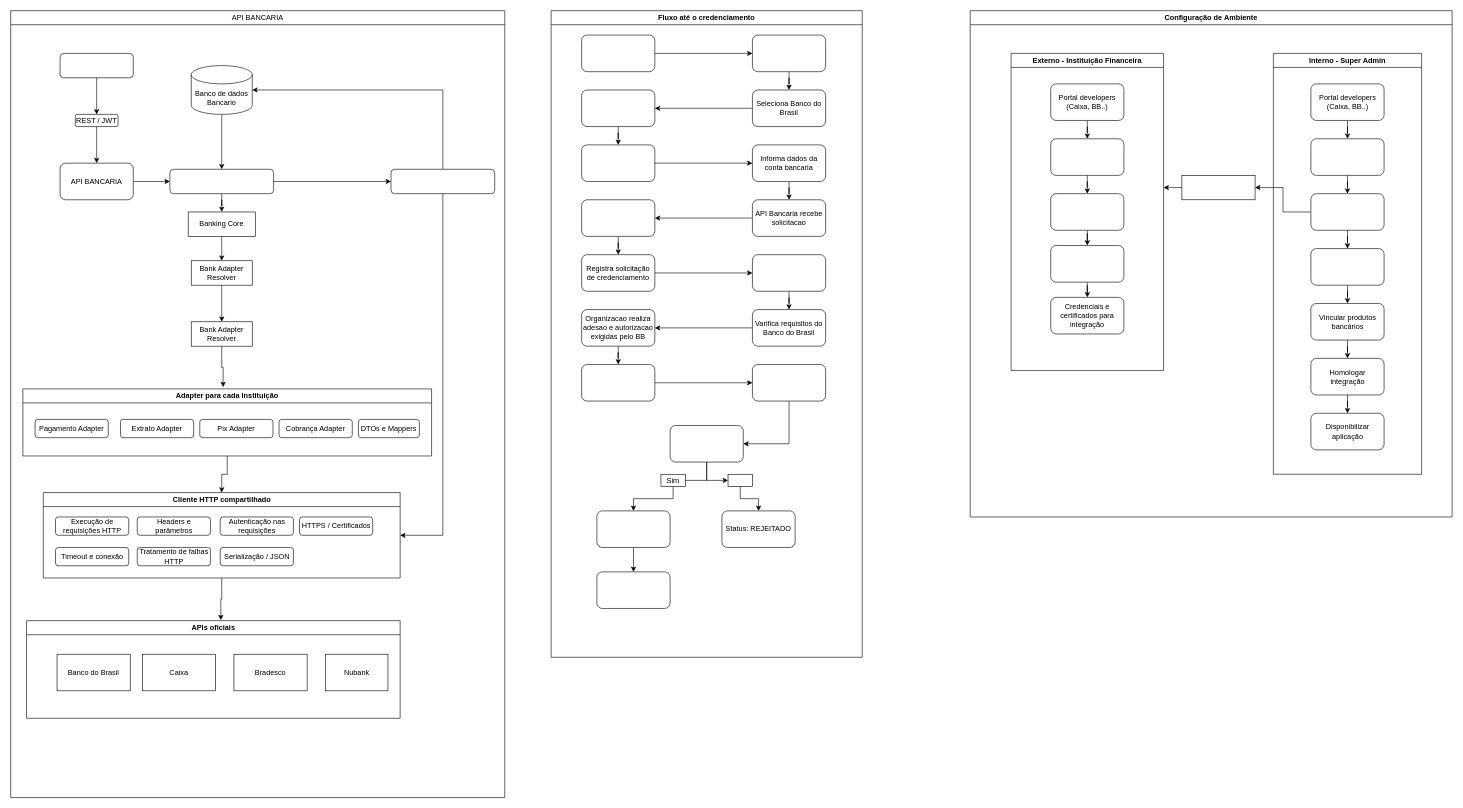
This 1463x808 diagram has some shape labels left out. Here are the shapes that lost their labels. From the top down, the centre of each, then its label:
At point (96, 65): "Api Principal".
At point (618, 53): "Usuario acessa o Sistema Princial".
At point (789, 53): "Acessa Integrações Bancarias".
At point (618, 108): "Seleciona os serviços desejados".
At point (618, 162): "Informa dados da organização".
At point (1087, 156): "Cadastrar Aplicação".
At point (1347, 156): "Cadastrar Instituição Financeira".
At point (221, 181): "Autenticação e Autorização".
At point (442, 181): "Gerenciamento de Credenciais".
At point (1218, 187): "Dados e configuração obtidos".
At point (618, 217): "Valida organizacao e dados".
At point (1087, 211): "Solicitar acesso as APIs (ex: Extrato e Saldo)".
At point (1347, 211): "Cadastrar Aplicação Bancária".
At point (789, 272): "Status: PENDENTE".
At point (1087, 263): "Instituição analisa -Homologação da aplicação".
At point (1347, 266): "Configurar credenciais ecertificados".
At point (618, 382): "Documentacao e certificados nescessarios".
At point (789, 382): "Validacao do credenciamento".
At point (706, 443): "Credenciamento aprovado?".
At point (739, 480): "Não".
At point (633, 528): "Status: HABILITADO".
At point (633, 589): "Conta liberada para configuracao da integração".
